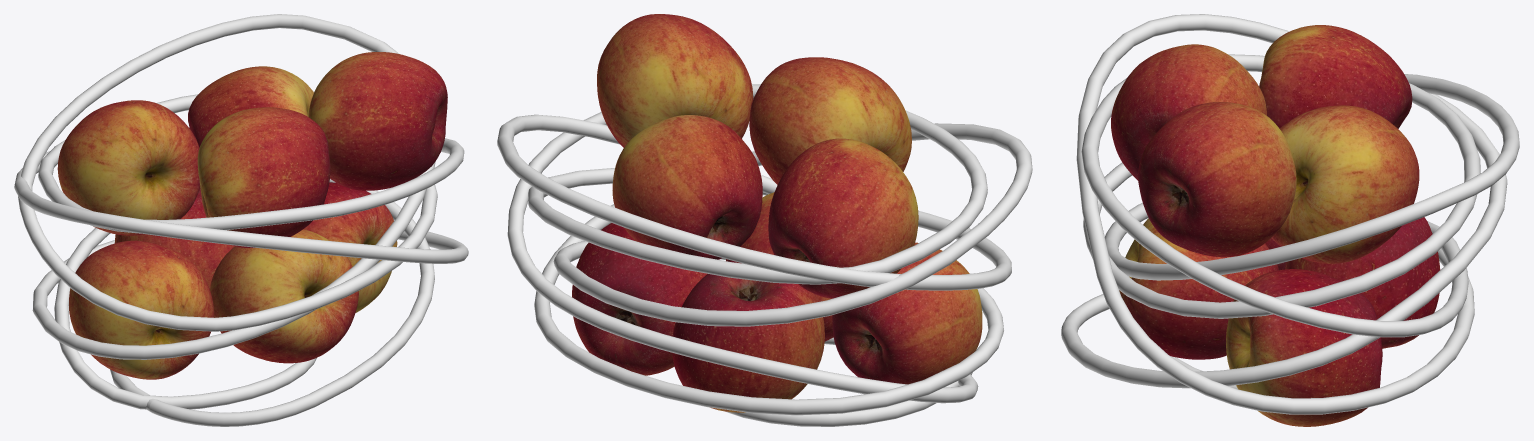
Rendered from apples.glb.
The picture shows the model from 3 angles, left to right: view 1: azimuth 30°, elevation 25°; view 2: azimuth 150°, elevation 25°; view 3: azimuth 270°, elevation 25°; orthographic projection. The views are drawn at different scales.
Visible parts, largest first — view 1: apple_mesh.002; view 2: apple_mesh.002; view 3: apple_mesh.002.
Boxes of the visible parts, x1,y1,x2,y2 form: apple_mesh.002: (14, 14, 468, 426); apple_mesh.002: (497, 14, 1032, 426); apple_mesh.002: (1061, 14, 1519, 426).
Bounding box in the file's own units: 5.14 × 3.27 × 4.24.
Materials: 2 (1 with a texture image).
